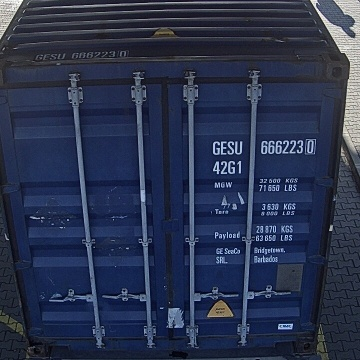serial_id: (211, 139, 314, 155)
